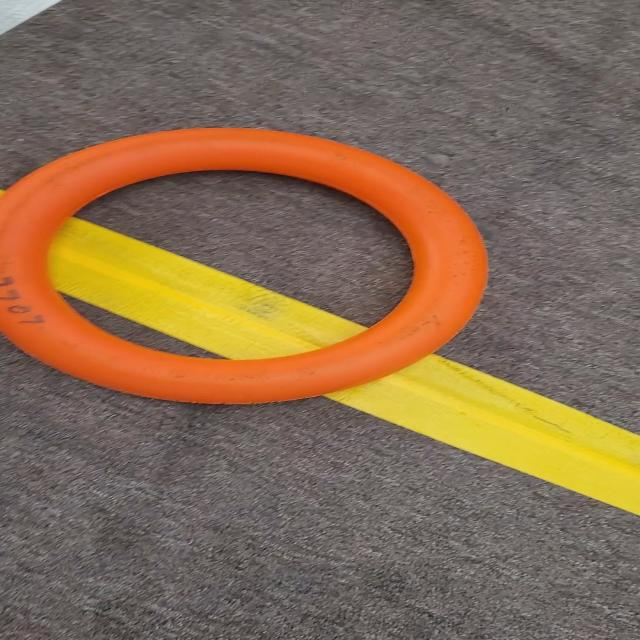note: (0, 123, 519, 408)
